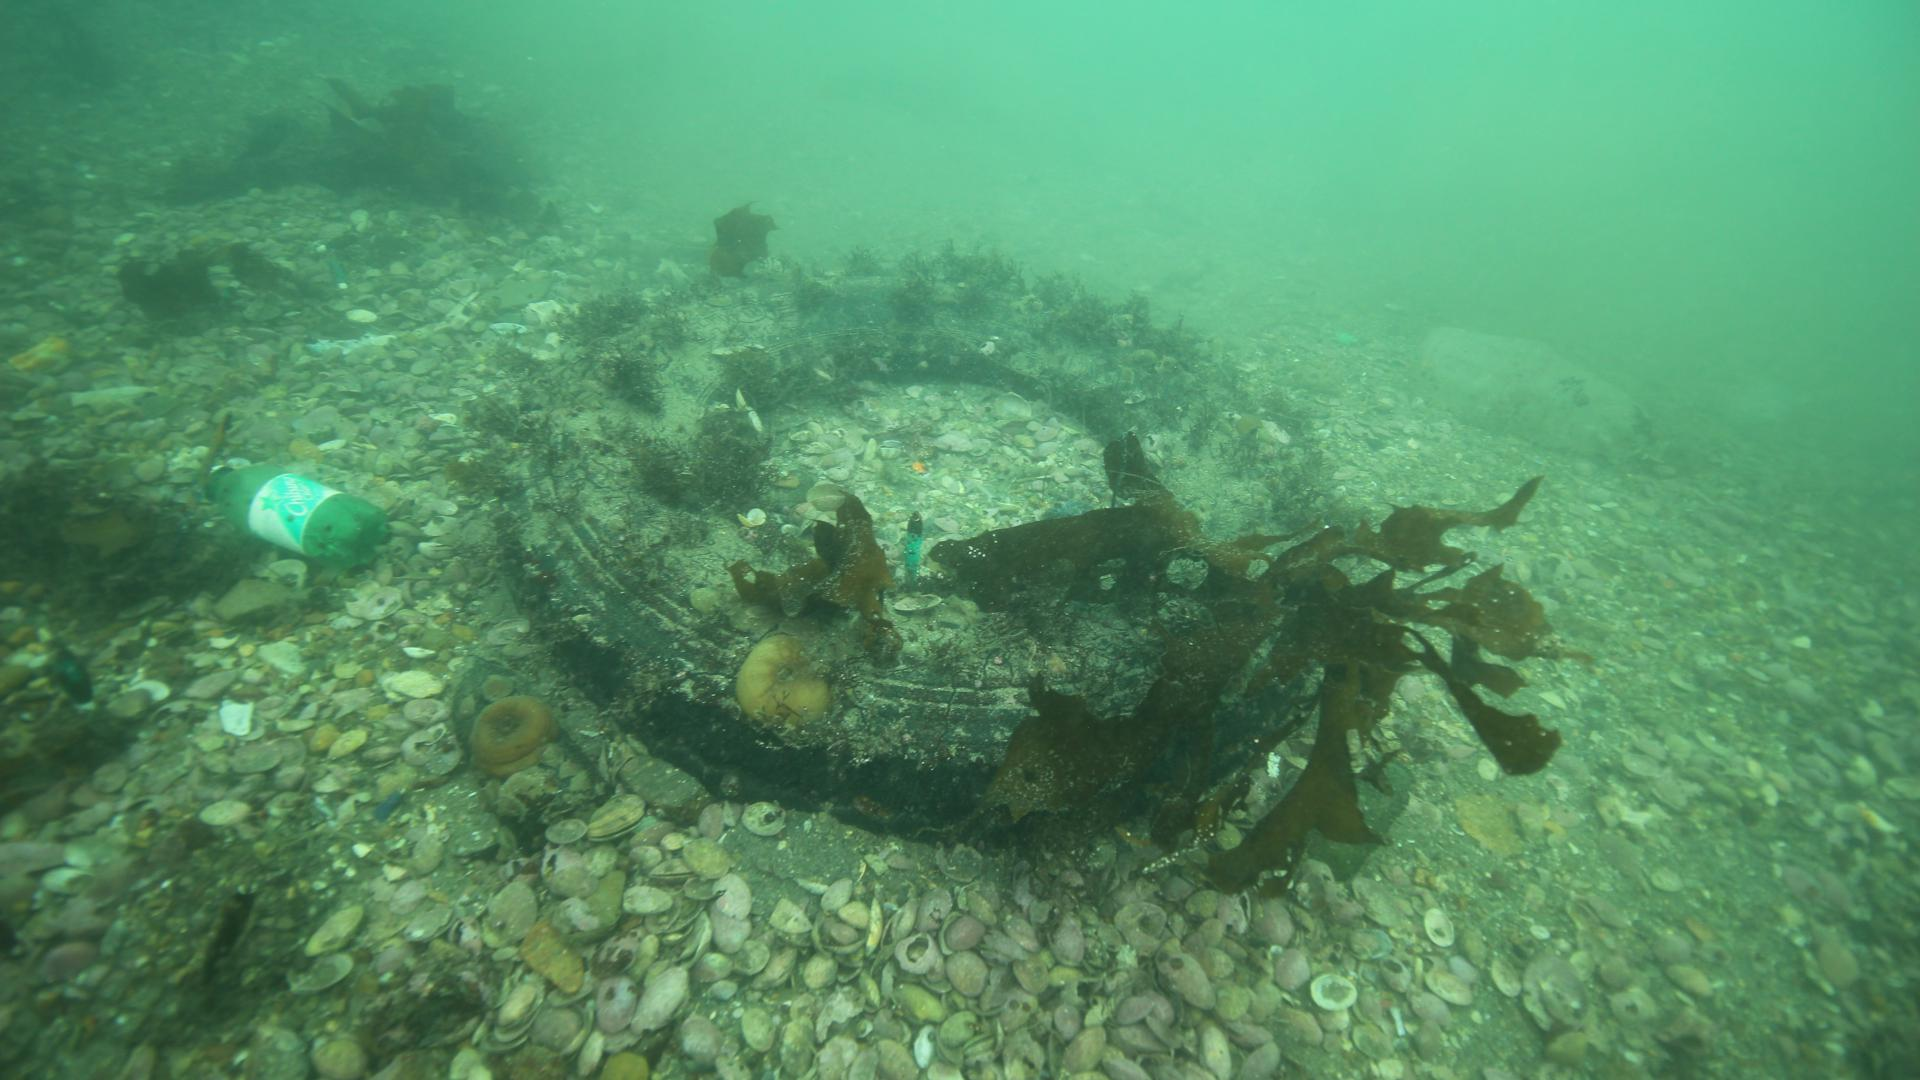tire: (504, 253, 1346, 845)
